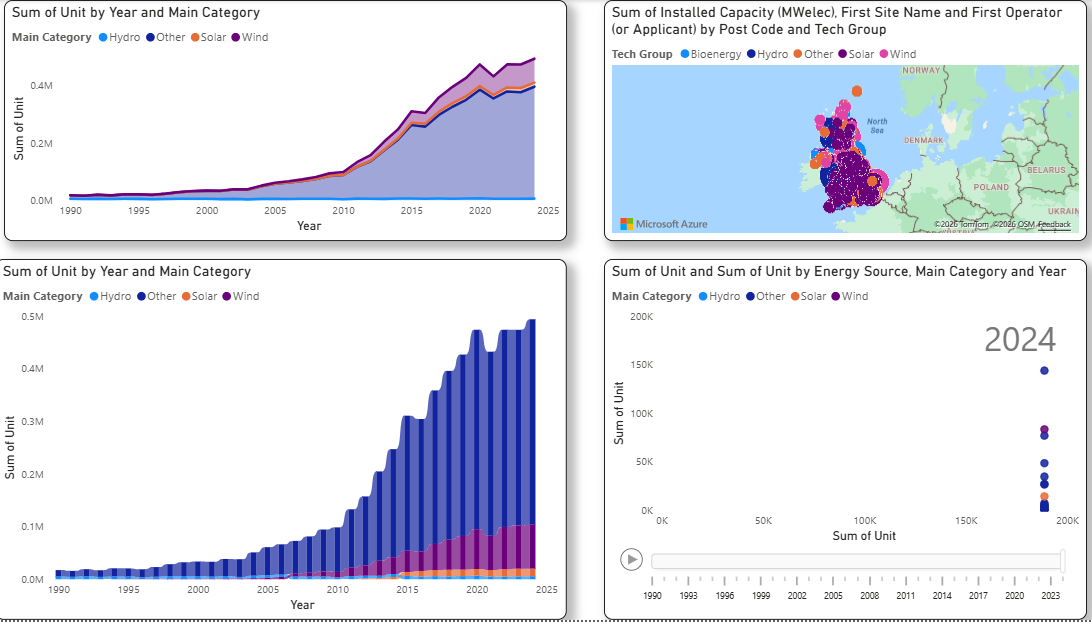

The dashboard page shown, as its layout file describes it:
{"tool":"powerbi","page":{"name":"Page 1","canvas":[1280,720],"ordinal":0},"visuals":[{"type":"stackedAreaChart","fields":{"Category":["Book2_Sheet2.Year"],"Y":["Sum(Book2_Sheet2.Unit)"],"Series":["Book2_Sheet2.Main Category"]},"box":[10.5,0,653.9,279.9],"z":0},{"type":"ribbonChart","fields":{"Category":["Book2_Sheet2.Year"],"Y":["Sum(Book2_Sheet2.Unit)"],"Series":["Book2_Sheet2.Main Category"]},"box":[0,300.8,664.4,419.3],"z":1000},{"type":"scatterChart","fields":{"X":["Sum(Book1_Sheet1.Unit)"],"Y":["Sum(Book2_Sheet2.Unit)"],"Category":["Book2_Sheet2.Energy Source"],"Series":["Book2_Sheet2.Main Category"],"Play":["Book2_Sheet2.Year"]},"box":[707.4,300.8,561,419.3],"z":2000},{"type":"azureMap","fields":{"Category":["REPD_Publication_Q4_2025.Post Code"],"Series":["REPD_Publication_Q4_2025.Tech Group"],"Size":["Sum(REPD_Publication_Q4_2025.Installed Capacity (MWelec))"]},"box":[707.4,0,561,279.9],"z":3000}]}

Visuals, with their boxes in screenshot pixels (x1, y1, x2, y2), scaled from the page's 1280x720 canvas onto the 1092x624 screenshot:
stackedAreaChart - Book2_Sheet2.Year x Sum(Book2_Sheet2.Unit): [left=9, top=0, right=567, bottom=243]
ribbonChart - Book2_Sheet2.Year x Sum(Book2_Sheet2.Unit): [left=0, top=261, right=567, bottom=623]
scatterChart - Sum(Book1_Sheet1.Unit) x Sum(Book2_Sheet2.Unit): [left=604, top=261, right=1082, bottom=623]
azureMap - REPD_Publication_Q4_2025.Post Code x REPD_Publication_Q4_2025.Tech Group: [left=604, top=0, right=1082, bottom=243]
